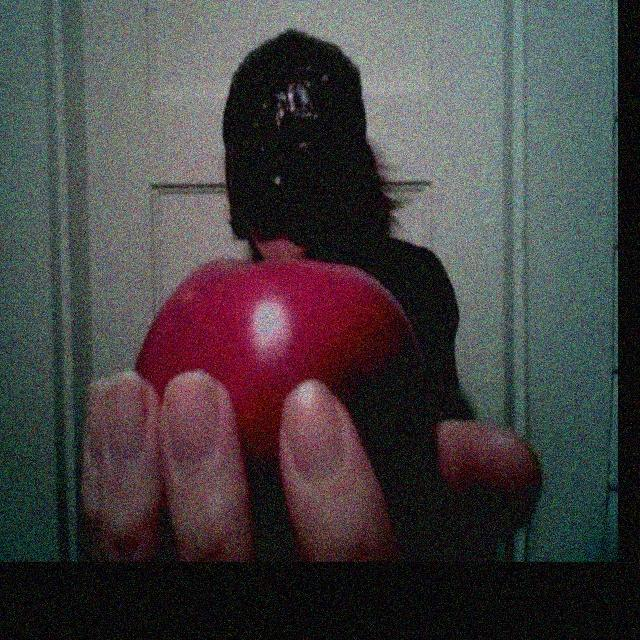red apple: (111, 255, 421, 468)
